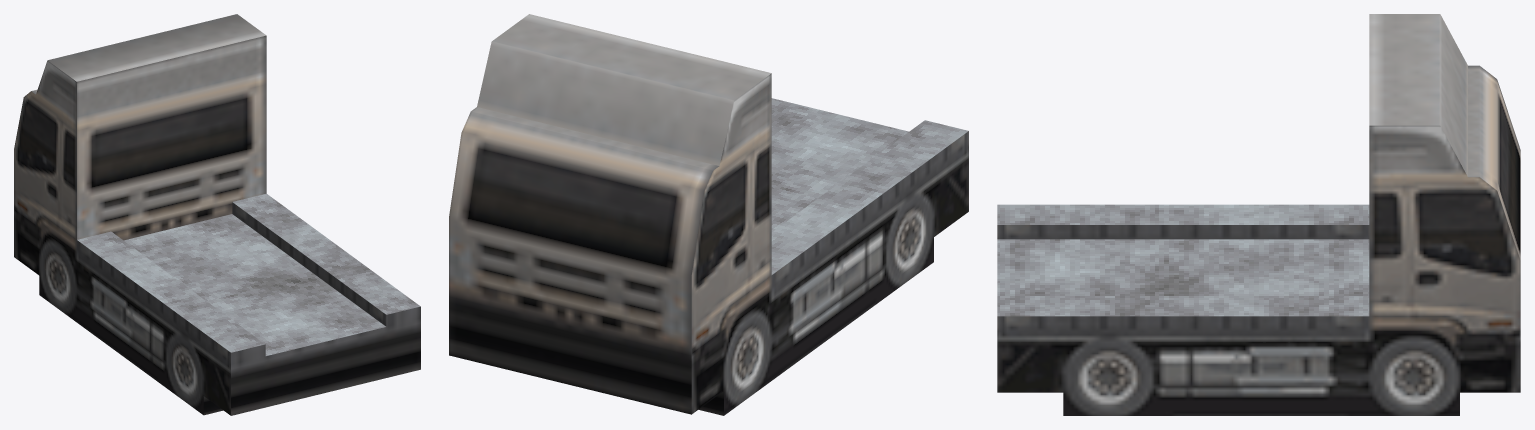
The model's file is truck_flat.fbx.
3 views of the same model, side by side, from view 1: azimuth 30°, elevation 25°; view 2: azimuth 150°, elevation 25°; view 3: azimuth 270°, elevation 25° (orthographic). The views are drawn at different scales.
Visible parts, largest first — view 1: truck_flat; view 2: truck_flat; view 3: truck_flat.
Boxes of the visible parts, x1=… form: truck_flat: x1=14, y1=14, x2=420, y2=415; truck_flat: x1=449, y1=14, x2=968, y2=415; truck_flat: x1=997, y1=14, x2=1520, y2=415.
Bounding box in the file's own units: 8.3 × 10.06 × 16.43.
